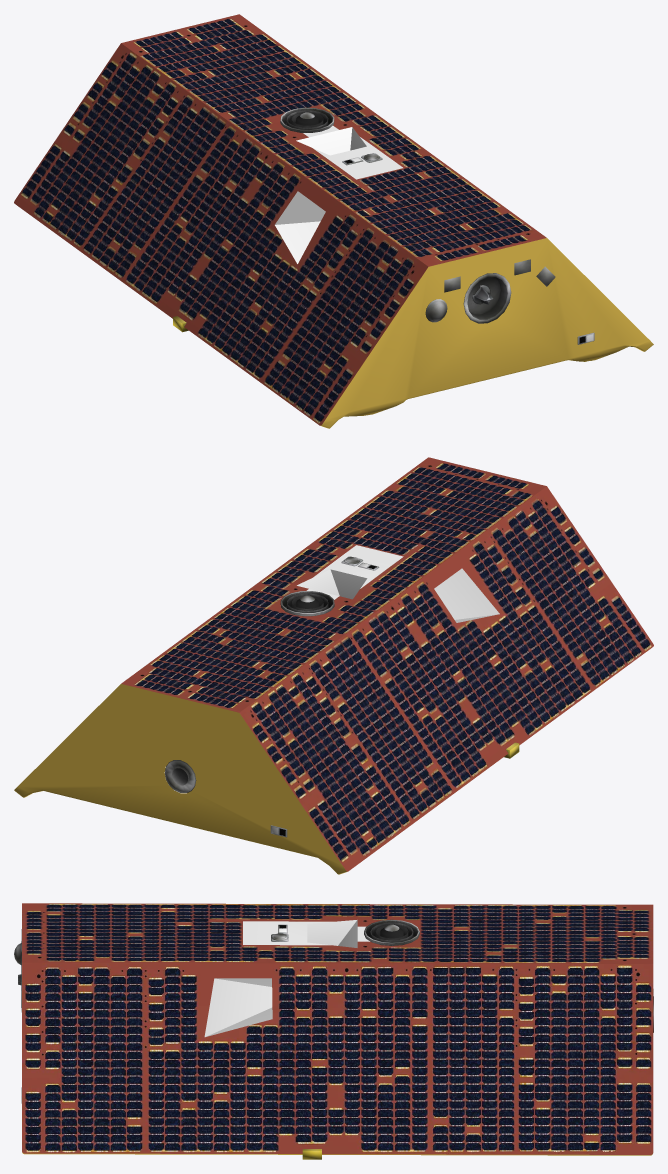
Rendered from grace-fo.glb.
The picture shows the model from 3 angles, top to bottom: view 1: azimuth 30°, elevation 25°; view 2: azimuth 150°, elevation 25°; view 3: azimuth 270°, elevation 25°; orthographic projection. The views are drawn at different scales.
Parts seen in each view (by area): view 1: BUS; view 2: BUS; view 3: BUS.
Part boxes in pixels (box(x1,y1,x2,y2)): BUS: box(14, 14, 653, 428); BUS: box(14, 457, 653, 874); BUS: box(14, 903, 653, 1159).
Size of what is drawn, in the model's own units: 2.03 by 0.8541 by 3.25.
3 materials, 1 textured.
